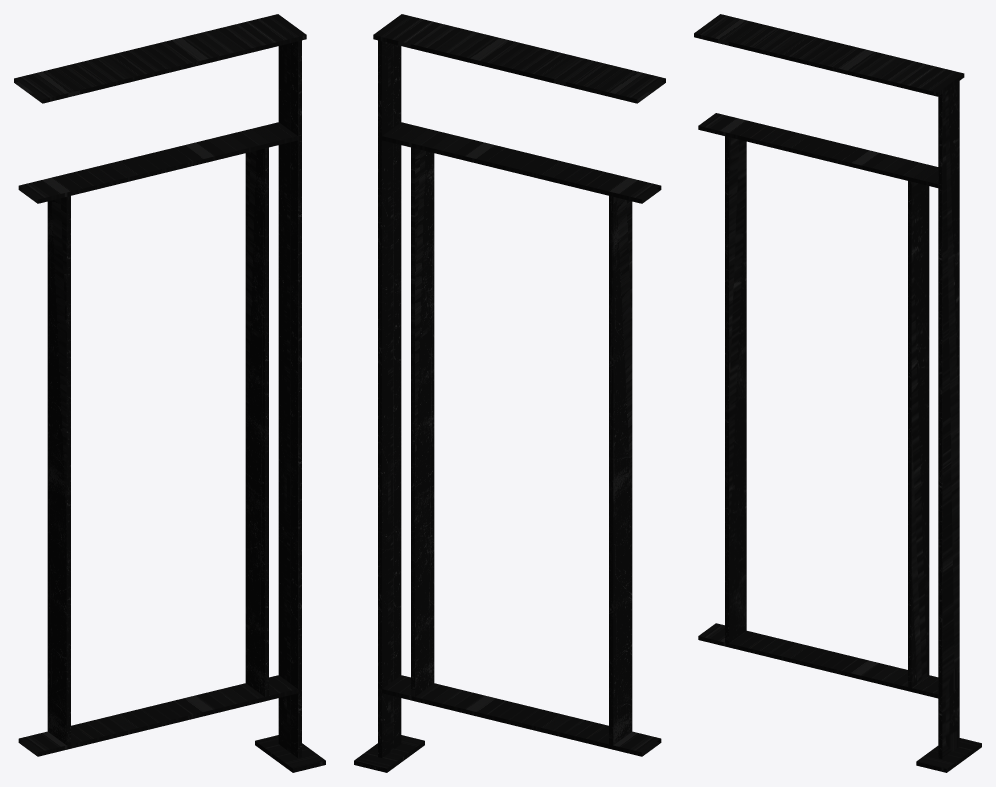
File: 42x16_frame_export.fbx
3 views of the same model, side by side, from view 1: azimuth 30°, elevation 25°; view 2: azimuth 150°, elevation 25°; view 3: azimuth 330°, elevation 25° (orthographic). The views are drawn at different scales.
Visible parts, largest first — view 1: railing_42x16; view 2: railing_42x16; view 3: railing_42x16.
Boxes of the visible parts, left/top/right/bottom form: railing_42x16: left=14, top=14, right=325, bottom=772; railing_42x16: left=354, top=14, right=665, bottom=772; railing_42x16: left=694, top=14, right=981, bottom=772.
Bounding box in the file's own units: 16.88 × 42.25 × 4.
Materials: 1 (1 with a texture image).
